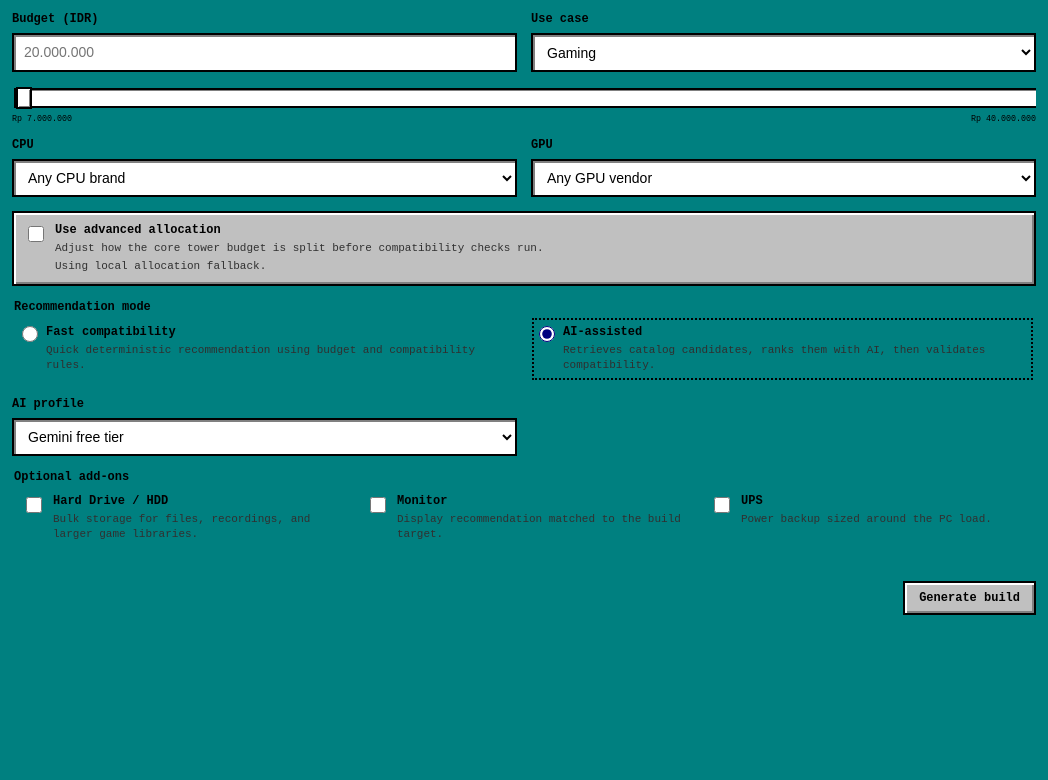
Test: build wizard › shows a catalog-aware progress message while AI build ranking is running
This screenshot has width=1048, height=780.
Type "20000000" into the field labelled "Budget (IDR)" at (264, 52), box 12,33 -> 517,72
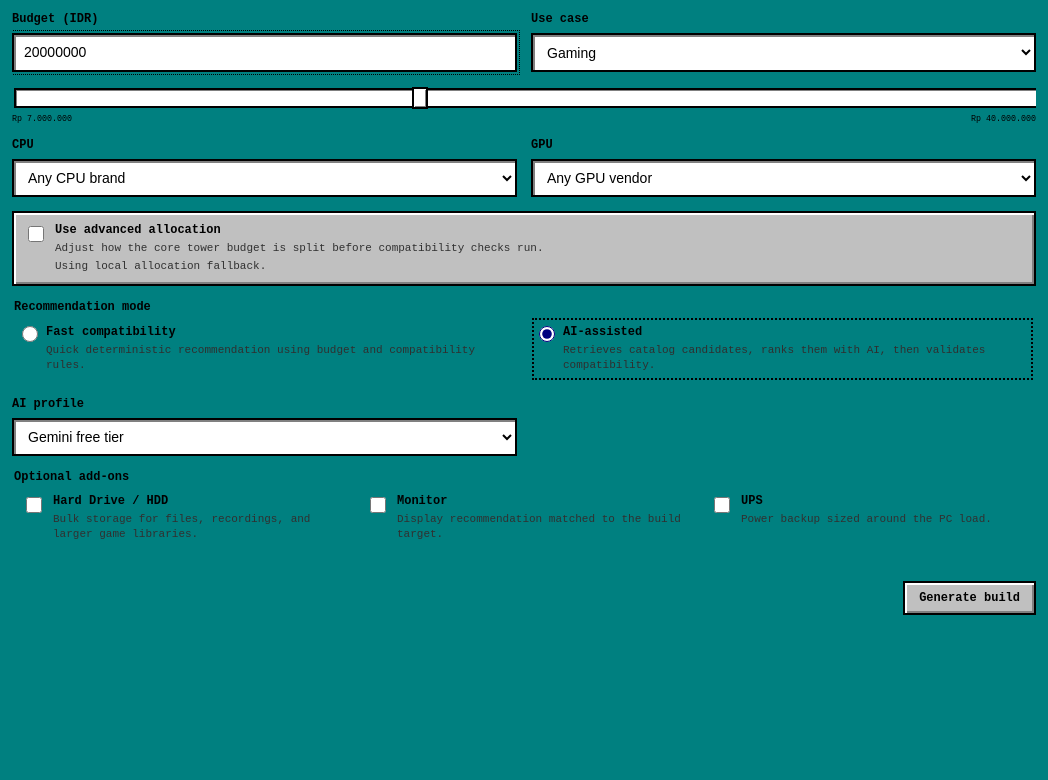
Click the radio button labelled "AI-assisted" at (547, 334), box 539,326 -> 555,342
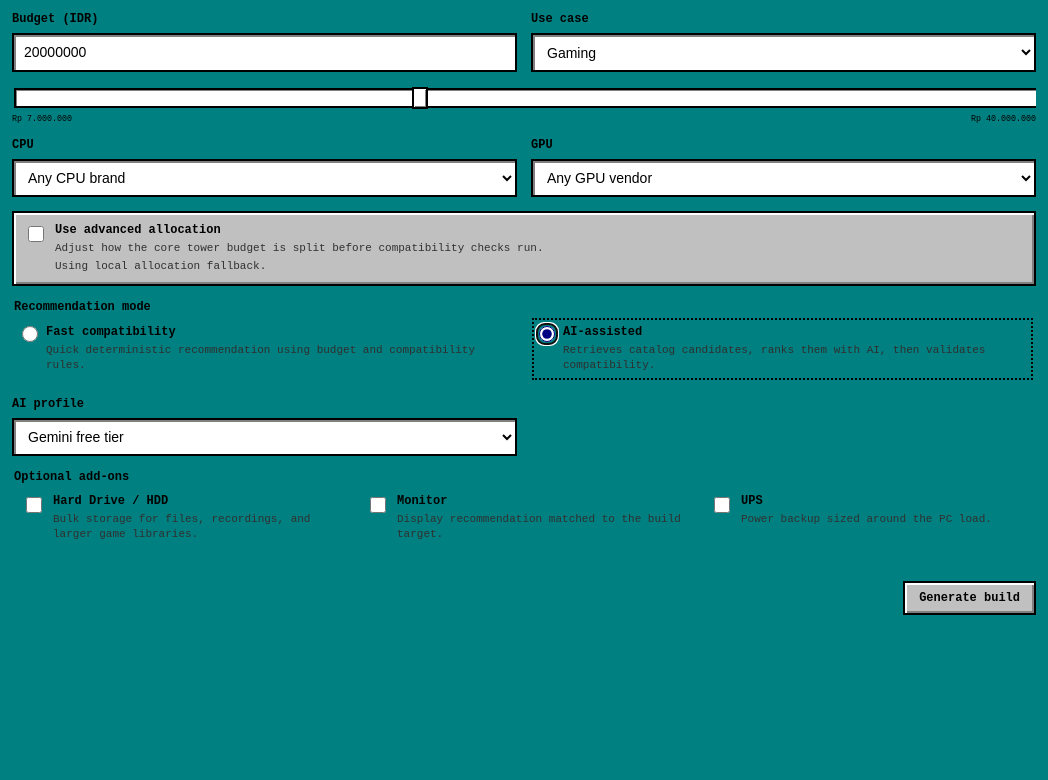
Click the button "Generate build" at (970, 598), box 903,581 -> 1036,615
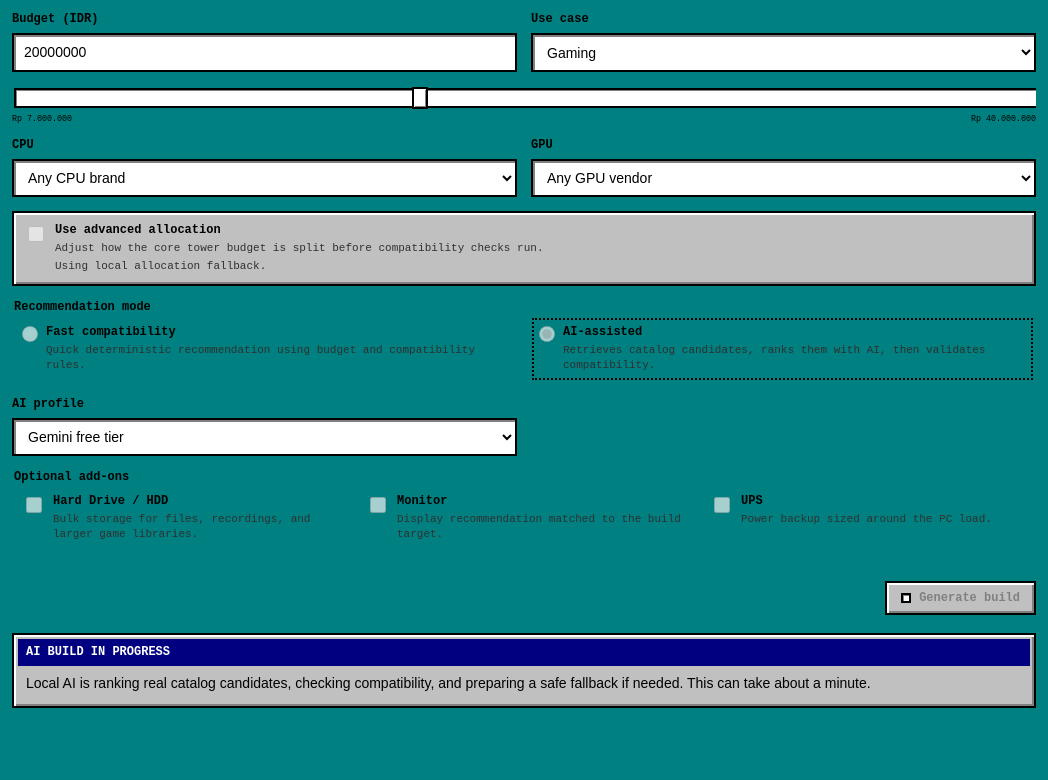
Expected: the message shows "AI BUILD IN PROGRESS", 26,645 -> 170,659
Expected: the message shows "ranking real catalog candidates", 26,675 -> 871,691
Expected: the message shows "can take about a minute", 26,675 -> 871,691
